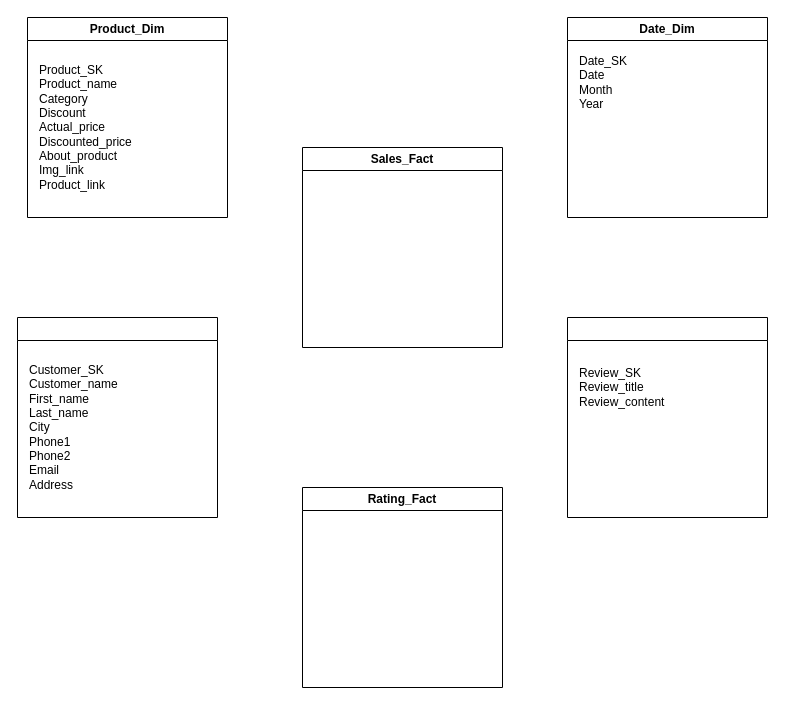
Some shapes in this 785 by 705 pixel diagram are drawn without their labels. The shapes that lost their labels are listed below. From the top down, each one's box as (x1, y1, x2, y2) in pixels, then its label:
(16, 316, 218, 518): Customer_Dim
(566, 316, 768, 518): Review_Dim
